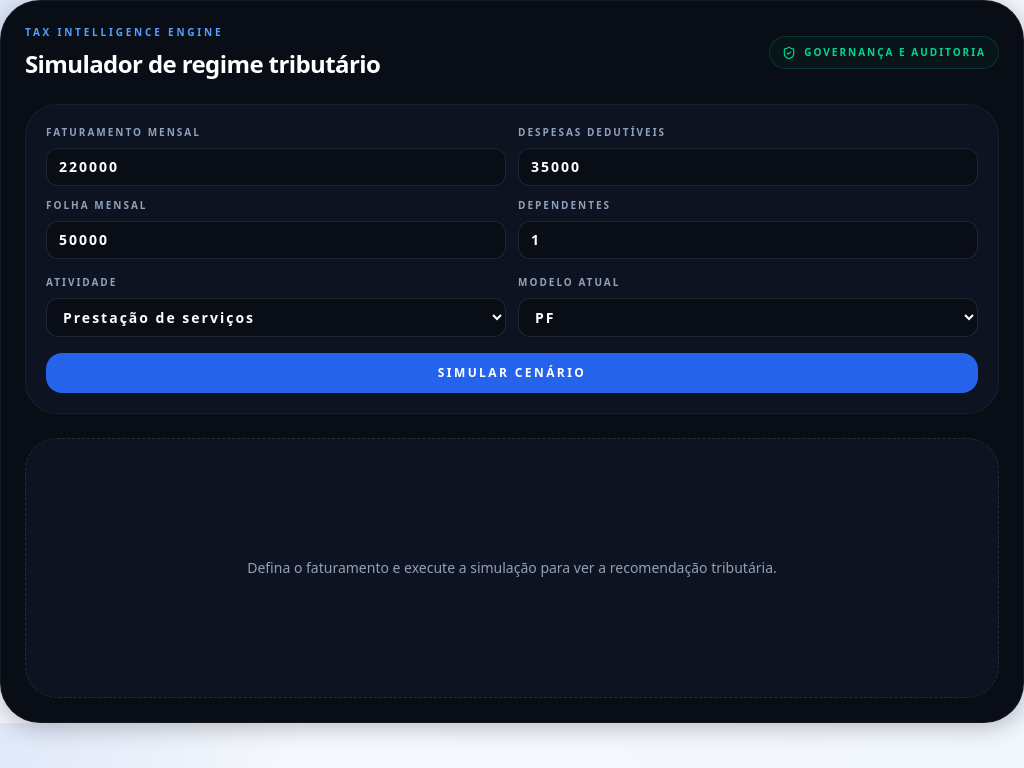
Test: TaxScenarioSimulator › bloqueia publicidade de economia quando o gate jurídico-fiscal não vem da API
Click the button "Simular cenário" at (512,373), box top-left (46, 353), bottom-right (978, 393)
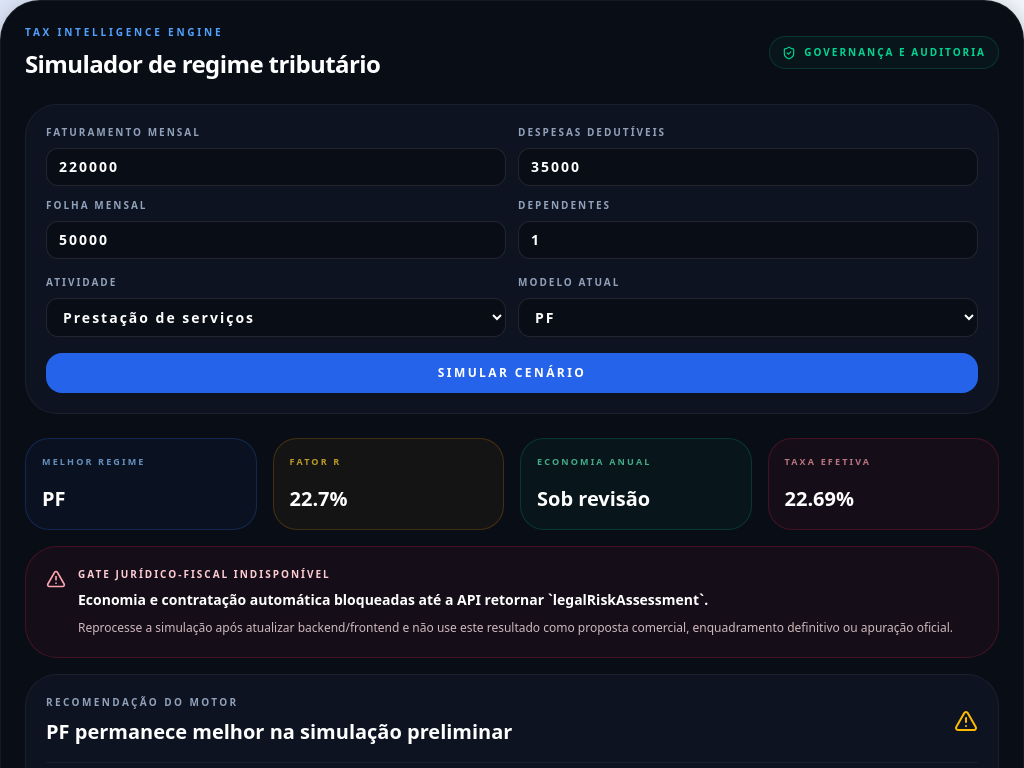
Now the text "Sob revisão" is shown, box top-left (537, 484), bottom-right (650, 512)
Now the text "Gate jurídico-fiscal indisponível" is shown, box top-left (78, 566), bottom-right (331, 580)
Now the text "não use este resultado como proposta comercial" is shown, box top-left (78, 618), bottom-right (953, 636)
